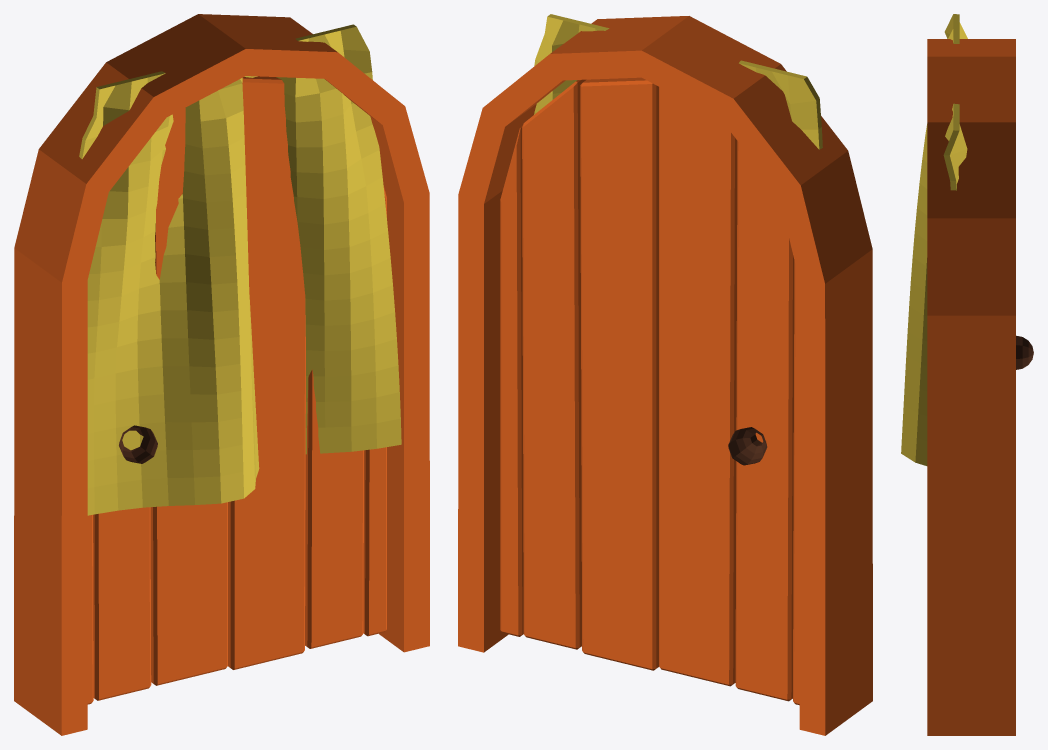
Rendered from Door 3.fbx.
3 renders of one model, left to right at view 1: azimuth 30°, elevation 25°; view 2: azimuth 150°, elevation 25°; view 3: azimuth 270°, elevation 25°, orthographic. The views are drawn at different scales.
Visible parts, largest first — view 1: Node 1, Node 0, Node 2; view 2: Node 2, Node 0, Node 1; view 3: Node 0, Node 1, Node 2.
Part boxes in pixels (x1,y1,x2,y2): Node 1: (79,24,401,515); Node 0: (14,14,429,735); Node 2: (87,76,386,704); Node 2: (500,77,799,705); Node 0: (458,16,872,735); Node 1: (534,14,822,149); Node 0: (927,39,1015,735); Node 1: (901,14,967,465); Node 2: (1016,335,1033,369).
Size of the model in its own units: 0.4882 by 2.42 by 1.45.
